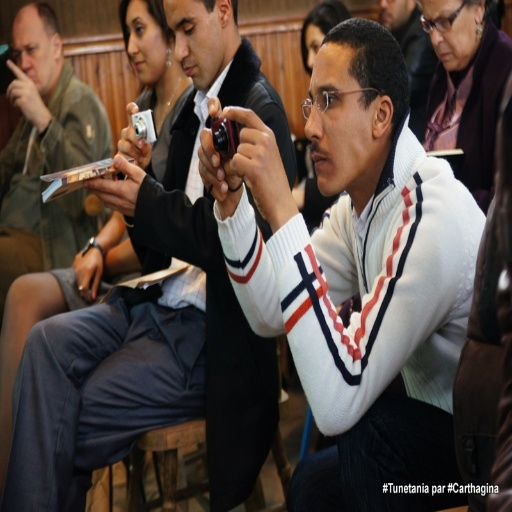hand: (222, 94, 296, 222), (195, 94, 242, 205), (81, 152, 147, 219), (115, 100, 152, 170), (5, 58, 44, 122), (75, 244, 105, 304), (69, 248, 84, 272)
